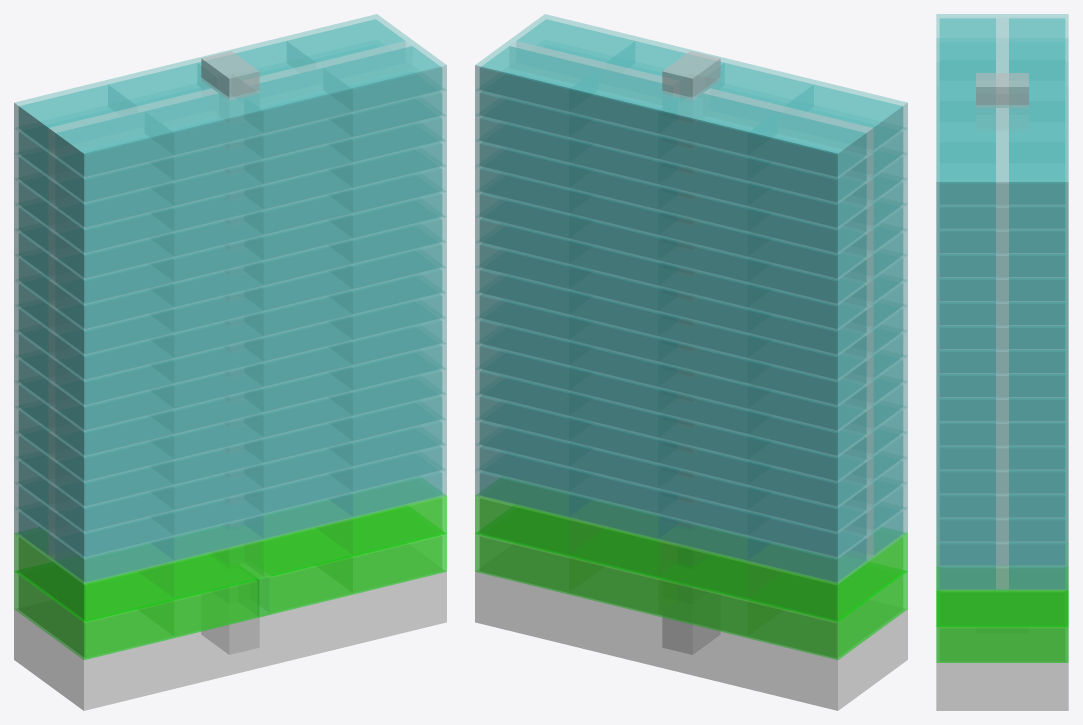
The model's file is Tower.glb.
The picture shows the model from 3 angles, left to right: view 1: azimuth 30°, elevation 25°; view 2: azimuth 150°, elevation 25°; view 3: azimuth 270°, elevation 25°; orthographic projection. The views are drawn at different scales.
Visible parts, largest first — view 1: 15522_mesh, 14958_mesh, 14979_mesh, 14961_mesh, 14994_mesh, 15060_mesh, 15093_mesh, 15489_mesh, 15159_mesh, 15192_mesh, 15291_mesh, 15423_mesh (+91 smaller); view 2: 15522_mesh, 14958_mesh, 14961_mesh, 14979_mesh, 14994_mesh, 15060_mesh, 15093_mesh, 15489_mesh, 15159_mesh, 15192_mesh, 15291_mesh, 15423_mesh (+91 smaller); view 3: 15522_mesh, 14958_mesh, 14961_mesh, 14979_mesh, 15489_mesh, 14976_mesh, 14991_mesh, 15192_mesh, 15225_mesh, 15258_mesh, 15291_mesh, 15324_mesh (+69 smaller).
Boxes of the visible parts, <box> form: 15522_mesh: <box>14,14,446,178</box>; 14958_mesh: <box>14,569,446,710</box>; 14979_mesh: <box>14,493,446,621</box>; 14961_mesh: <box>14,531,446,659</box>; 14994_mesh: <box>14,467,446,583</box>; 15060_mesh: <box>14,417,446,533</box>; 15093_mesh: <box>14,392,446,507</box>; 15489_mesh: <box>14,88,446,204</box>; 15159_mesh: <box>14,341,446,457</box>; 15192_mesh: <box>14,316,446,431</box>; 15291_mesh: <box>14,240,446,355</box>; 15423_mesh: <box>14,138,446,254</box>; 15522_mesh: <box>475,14,907,178</box>; 14958_mesh: <box>475,569,907,710</box>; 14961_mesh: <box>475,531,907,659</box>; 14979_mesh: <box>475,493,907,621</box>; 14994_mesh: <box>475,467,907,583</box>; 15060_mesh: <box>475,417,907,533</box>; 15093_mesh: <box>475,392,907,507</box>; 15489_mesh: <box>475,88,907,204</box>; 15159_mesh: <box>475,341,907,457</box>; 15192_mesh: <box>475,316,907,431</box>; 15291_mesh: <box>475,240,907,355</box>; 15423_mesh: <box>475,138,907,254</box>; 15522_mesh: <box>936,14,1068,206</box>; 14958_mesh: <box>936,627,1068,710</box>; 14961_mesh: <box>936,591,1068,662</box>; 14979_mesh: <box>936,567,1068,626</box>; 15489_mesh: <box>936,38,1068,230</box>; 14976_mesh: <box>940,627,1064,661</box>; 14991_mesh: <box>940,591,1064,624</box>; 15192_mesh: <box>936,398,1068,446</box>; 15225_mesh: <box>936,374,1068,422</box>; 15258_mesh: <box>936,350,1068,398</box>; 15291_mesh: <box>936,326,1068,374</box>; 15324_mesh: <box>936,302,1068,350</box>.
Bounding box in the file's own units: 60 × 91 × 20.
